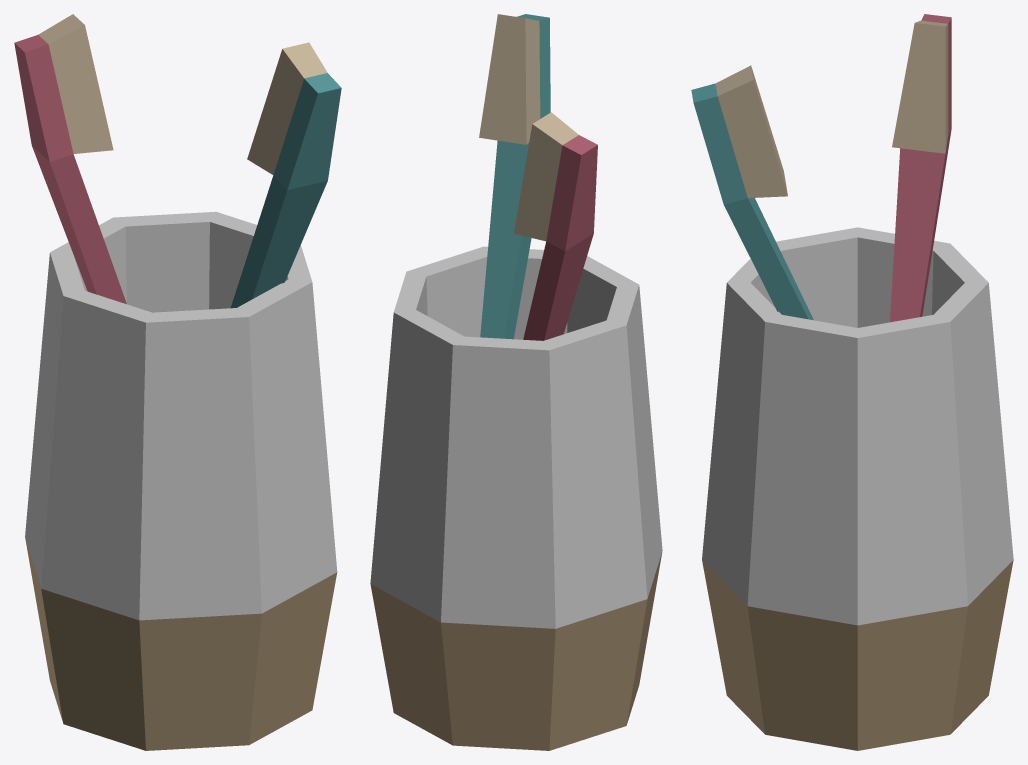
File: SM_Item_Toothbrush_Cup_01.fbx
3 views of the same model, side by side, from view 1: azimuth 30°, elevation 25°; view 2: azimuth 150°, elevation 25°; view 3: azimuth 270°, elevation 25° (orthographic). The views are drawn at different scales.
Visible parts, largest first — view 1: SM_Item_Toothbrush_Cup_01; view 2: SM_Item_Toothbrush_Cup_01; view 3: SM_Item_Toothbrush_Cup_01.
Boxes of the visible parts, x1,y1,x2,y2 form: SM_Item_Toothbrush_Cup_01: (14, 14, 341, 750); SM_Item_Toothbrush_Cup_01: (370, 14, 662, 750); SM_Item_Toothbrush_Cup_01: (691, 14, 1013, 750).
Bounding box in the file's own units: 14.55 × 33.58 × 15.05.
